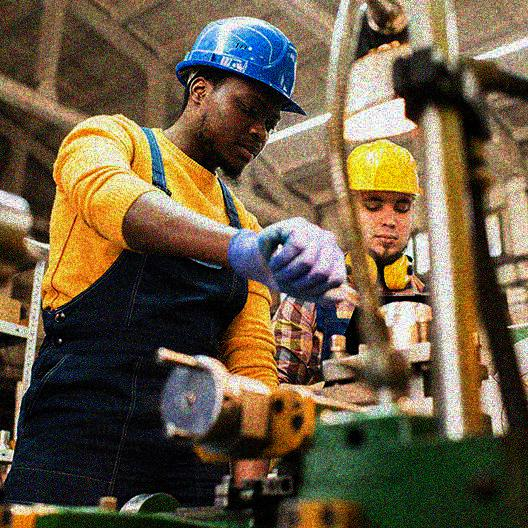helmet: (170, 11, 309, 183), (339, 139, 423, 260)
